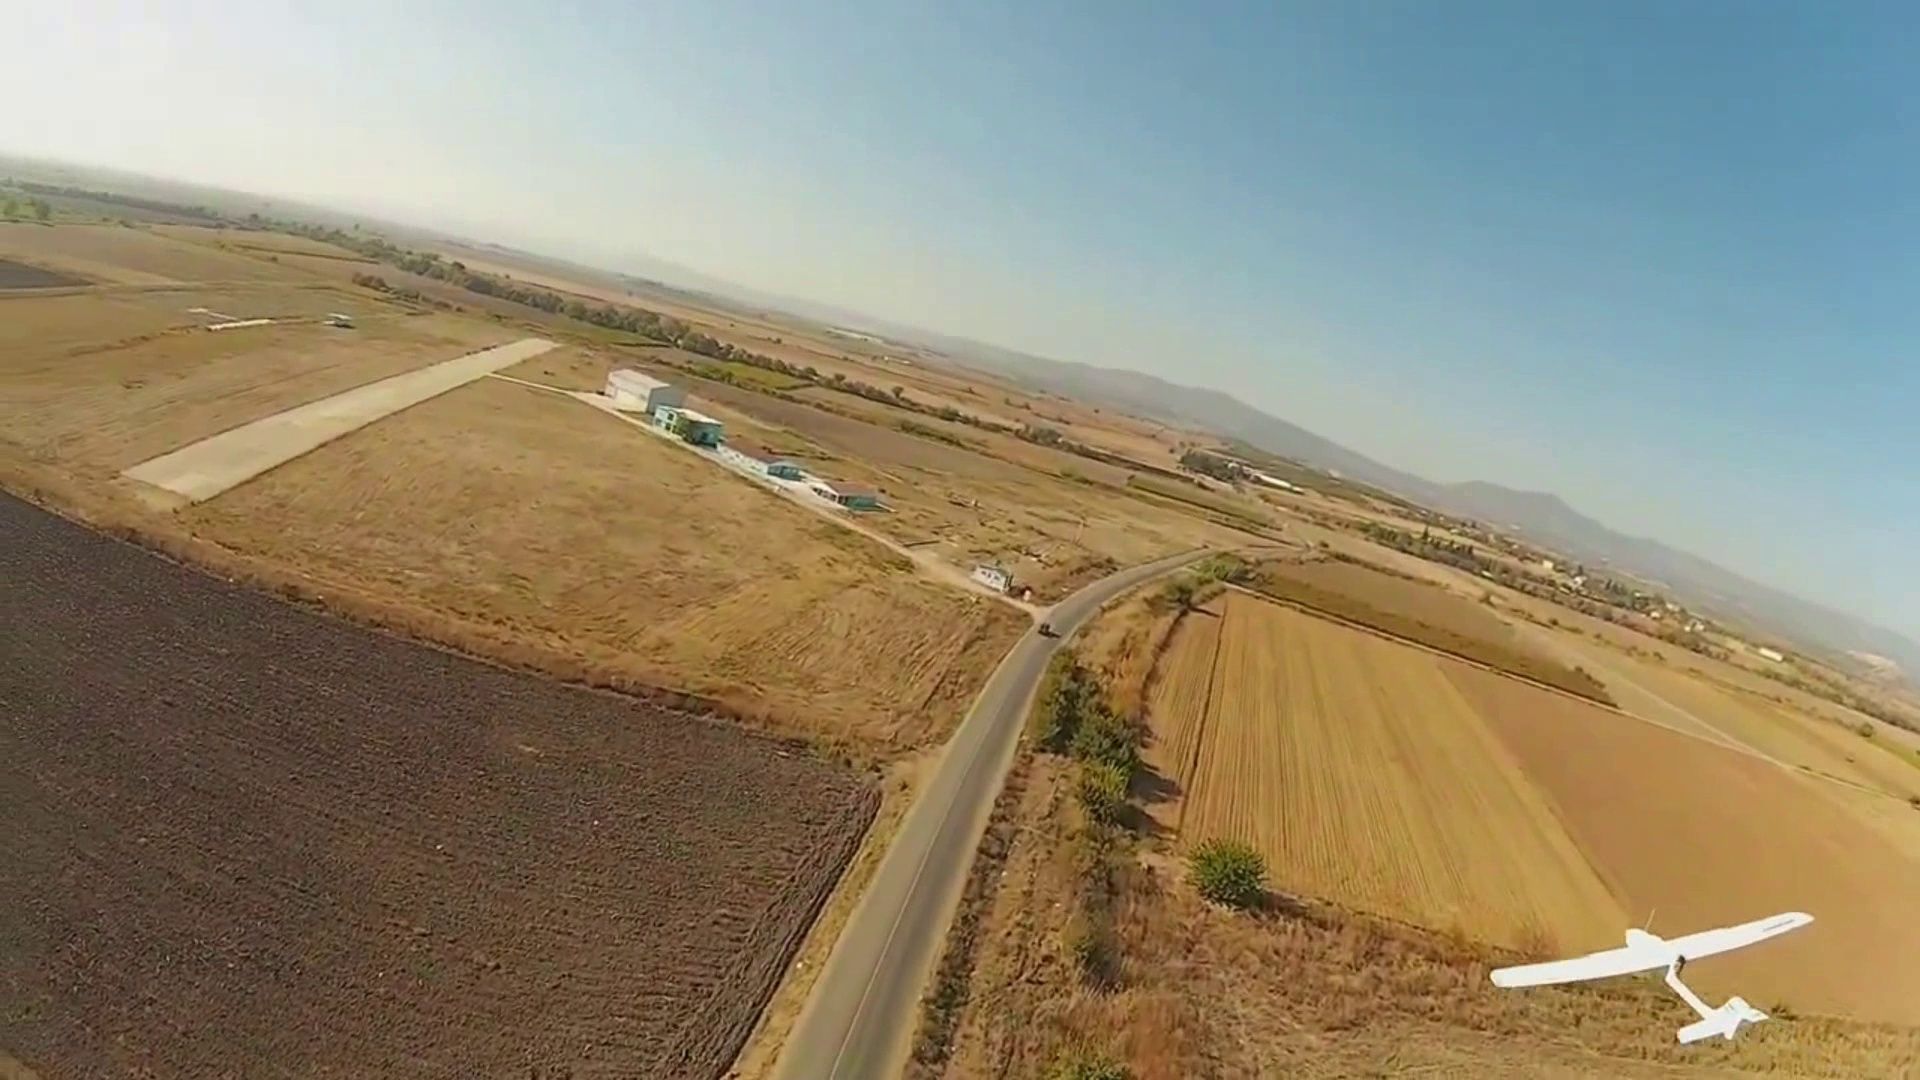airplane: (1488, 910, 1815, 1049)
